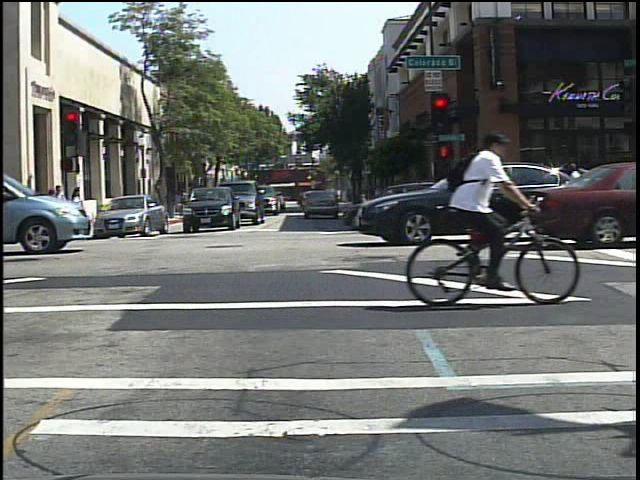person: (432, 122, 524, 300)
